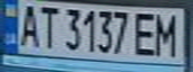1: (78, 7, 96, 53)
3: (60, 6, 81, 52), (96, 8, 115, 54)
7: (112, 9, 133, 55)
A: (15, 1, 42, 48)
E: (130, 9, 160, 57)
M: (151, 10, 184, 57)
T: (36, 2, 60, 50)
